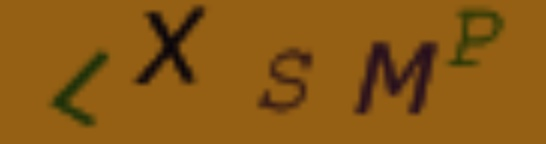L: (45, 46, 115, 130)
M: (351, 38, 443, 118)
P: (447, 5, 505, 67)
S: (254, 47, 320, 116)
X: (133, 4, 210, 88)
